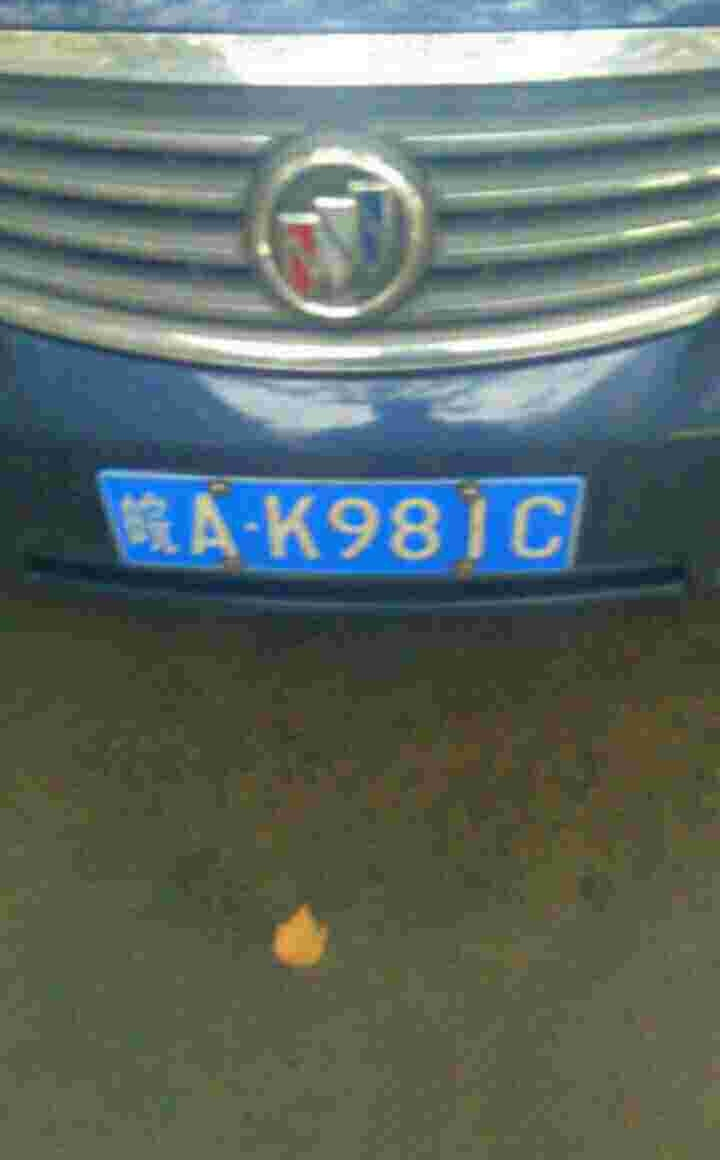license_plate: (92, 474, 590, 577)
